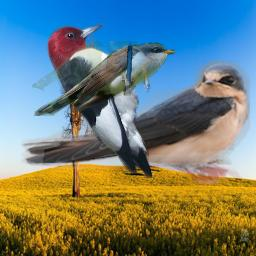Cuckoo: (32, 41, 175, 116)
Swallow: (21, 59, 250, 184)
Woodpecker: (46, 23, 165, 178)
